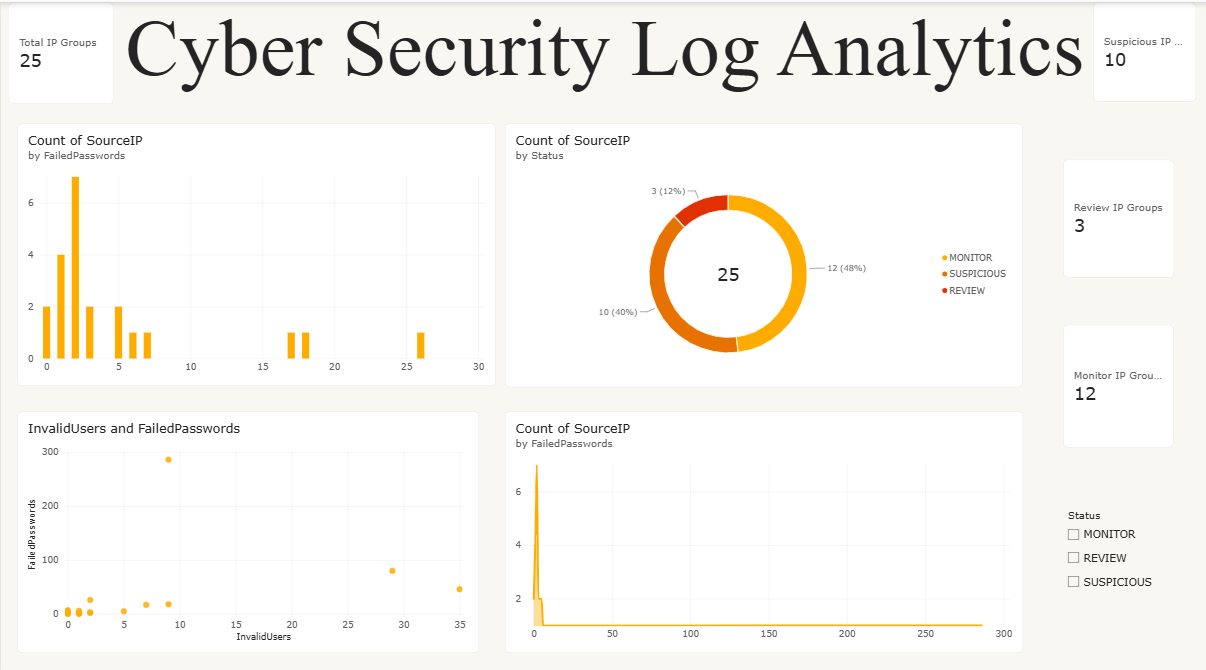

Layout of this report page (visuals, bound fields, positions):
{"tool":"powerbi","page":{"name":"Page 1","canvas":[1920,1080],"ordinal":0},"visuals":[{"type":"cardVisual","fields":{"Data":["security-analysis.Total IP Groups"]},"box":[11.9,0,167,162.2],"z":0},{"type":"cardVisual","fields":{"Data":["security-analysis.Suspicious IP Groups"]},"box":[1736.9,0,164.6,159.9],"z":1000},{"type":"cardVisual","fields":{"Data":["security-analysis.Monitor IP Groups"]},"box":[1690.4,513.5,176.9,196.9],"z":2000},{"type":"cardVisual","fields":{"Data":["security-analysis.Review IP Groups"]},"box":[1690.4,251.7,177.9,188.1],"z":3002},{"type":"textbox","box":[198,0,1538.9,162.2],"z":3003},{"type":"clusteredColumnChart","fields":{"Category":["security-analysis.FailedPasswords"],"Y":["CountNonNull(security-analysis.SourceIP)"]},"box":[26.2,193.3,760.9,417.2],"z":3004},{"type":"donutChart","fields":{"Category":["security-analysis.Status"],"Y":["CountNonNull(security-analysis.SourceIP)"]},"box":[800.7,193.2,823.6,419.4],"z":3005},{"type":"slicer","fields":{"Values":["security-analysis.Status"]},"box":[1690.4,805.8,180.5,152.5],"z":3006},{"type":"scatterChart","fields":{"X":["security-analysis.InvalidUsers"],"Y":["security-analysis.FailedPasswords"]},"box":[26.7,650.8,734.2,383.8],"z":3007},{"type":"stackedAreaChart","fields":{"Category":["security-analysis.FailedPasswords"],"Y":["CountNonNull(security-analysis.SourceIP)"]},"box":[800.9,650.8,824.3,383.8],"z":3008}]}

Visuals, with their boxes in screenshot pixels (x1, y1, x2, y2), scaled from the page's 1920x1080 canvas onto the 1206x670 screenshot:
cardVisual - security-analysis.Total IP Groups: locate(7, 0, 112, 101)
cardVisual - security-analysis.Suspicious IP Groups: locate(1091, 0, 1194, 99)
cardVisual - security-analysis.Monitor IP Groups: locate(1062, 319, 1173, 441)
cardVisual - security-analysis.Review IP Groups: locate(1062, 156, 1174, 273)
textbox: locate(124, 0, 1091, 101)
clusteredColumnChart - security-analysis.FailedPasswords x CountNonNull(security-analysis.SourceIP): locate(16, 120, 494, 379)
donutChart - security-analysis.Status x CountNonNull(security-analysis.SourceIP): locate(503, 120, 1020, 380)
slicer - security-analysis.Status: locate(1062, 500, 1175, 595)
scatterChart - security-analysis.InvalidUsers x security-analysis.FailedPasswords: locate(17, 404, 478, 642)
stackedAreaChart - security-analysis.FailedPasswords x CountNonNull(security-analysis.SourceIP): locate(503, 404, 1021, 642)
